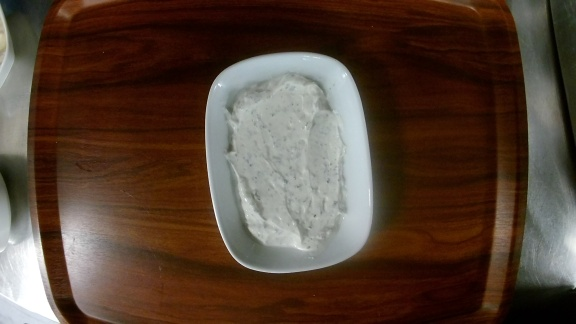haydari: (205, 51, 375, 274)
